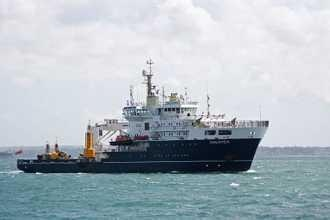otherboat: (13, 66, 275, 175)
